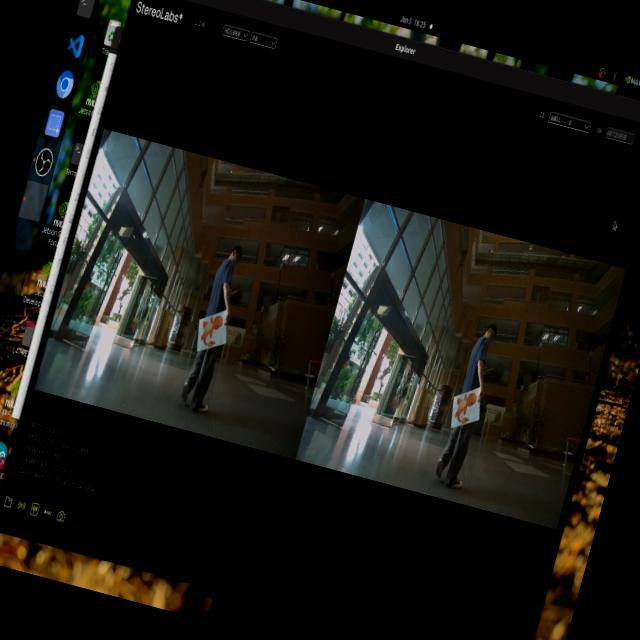red: (186, 304, 230, 348), (451, 401, 485, 435)
